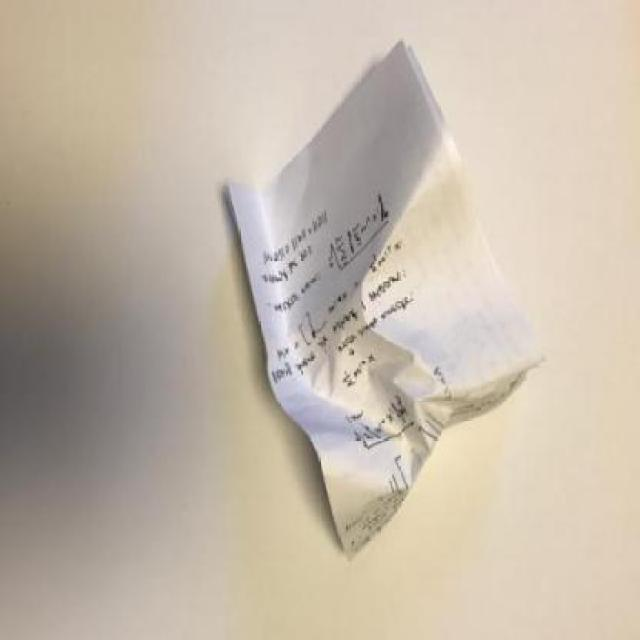PAPER: (227, 35, 550, 557)
